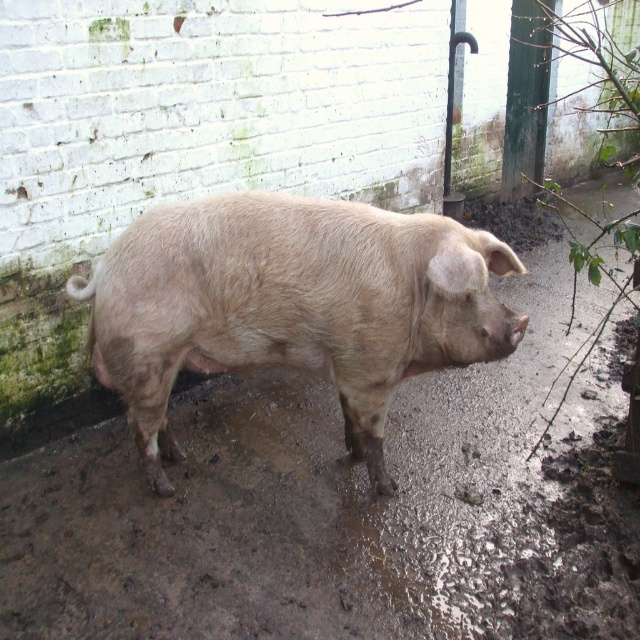Pig: (68, 189, 530, 500)
